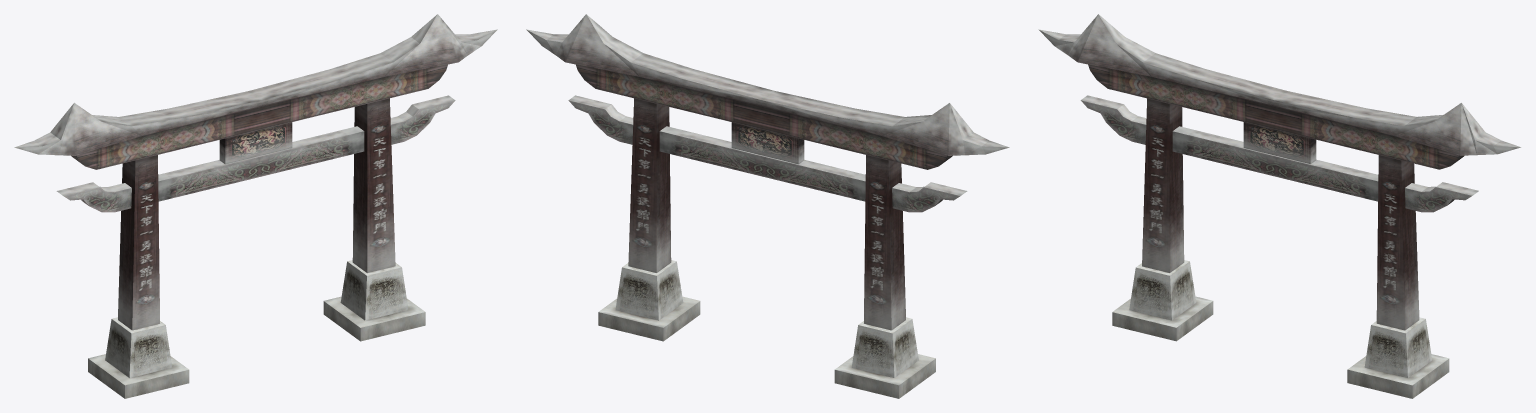
File: snow-035-woodgate_lod_01.fbx
3 renders of one model, left to right at view 1: azimuth 30°, elevation 25°; view 2: azimuth 150°, elevation 25°; view 3: azimuth 330°, elevation 25°, orthographic.
Visible parts, largest first — view 1: ob-035-woodgate; view 2: ob-035-woodgate; view 3: ob-035-woodgate.
Part boxes in pixels (box(x1,y1,x2,y2)): ob-035-woodgate: box(14, 14, 497, 398); ob-035-woodgate: box(526, 14, 1009, 398); ob-035-woodgate: box(1038, 14, 1520, 398).
Size of the model in its own units: 14.4 by 8.27 by 1.91.
